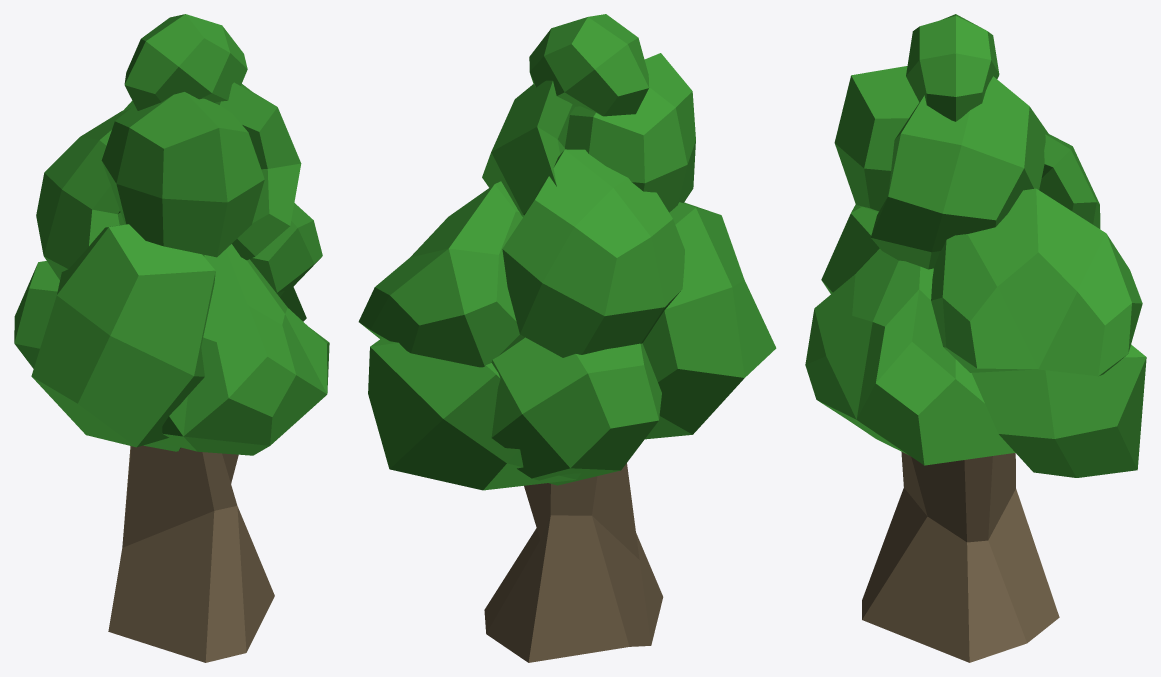
Rendered from Tree_01.fbx.
The picture shows the model from 3 angles, left to right: view 1: azimuth 30°, elevation 25°; view 2: azimuth 150°, elevation 25°; view 3: azimuth 270°, elevation 25°; orthographic projection.
Parts seen in each view (by area): view 1: rock.033, Cylinder.001, rock.030, rock.032, rock.028, rock.025, rock.029, rock.027, rock.031; view 2: rock.025, Cylinder.001, rock.031, rock.027, rock.033, rock.026, rock.032, rock.028, rock.029; view 3: rock.027, Cylinder.001, rock.030, rock.029, rock.026, rock.032, rock.028, rock.025, rock.033.
Boxes of the visible parts, x1,y1,x2,y2 form: rock.033: (31, 224, 215, 451); Cylinder.001: (108, 445, 274, 662); rock.030: (157, 244, 329, 455); rock.032: (101, 92, 264, 257); rock.028: (124, 14, 247, 110); rock.025: (36, 108, 130, 279); rock.029: (121, 82, 301, 260); rock.027: (250, 203, 322, 292); rock.031: (14, 261, 59, 368); rock.025: (502, 149, 684, 357); Cylinder.001: (484, 463, 663, 662); rock.031: (491, 337, 661, 485); rock.027: (358, 181, 524, 367); rock.033: (642, 202, 776, 439); rock.026: (368, 338, 580, 490); rock.032: (565, 53, 695, 212); rock.028: (529, 14, 649, 116); rock.029: (482, 80, 574, 217); rock.027: (931, 188, 1142, 376); Cylinder.001: (862, 451, 1059, 662); rock.030: (805, 248, 1015, 465); rock.029: (871, 76, 1049, 269); rock.026: (971, 344, 1146, 477); rock.032: (834, 66, 919, 211); rock.028: (906, 14, 999, 121); rock.025: (1039, 134, 1100, 228); rock.033: (821, 204, 878, 293).
Size of the model in its own units: 515 by 963 by 496.
